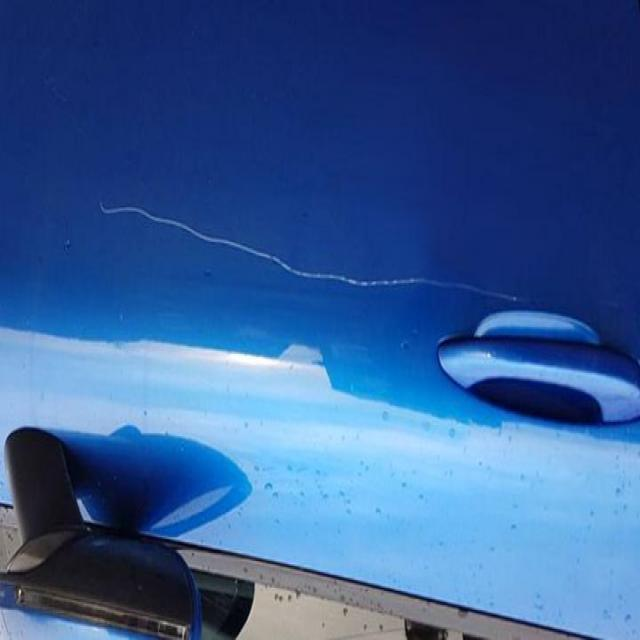scratch: (96, 186, 542, 315)
